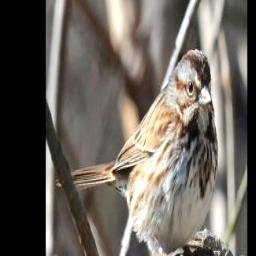Sparrow: (54, 45, 218, 256)
